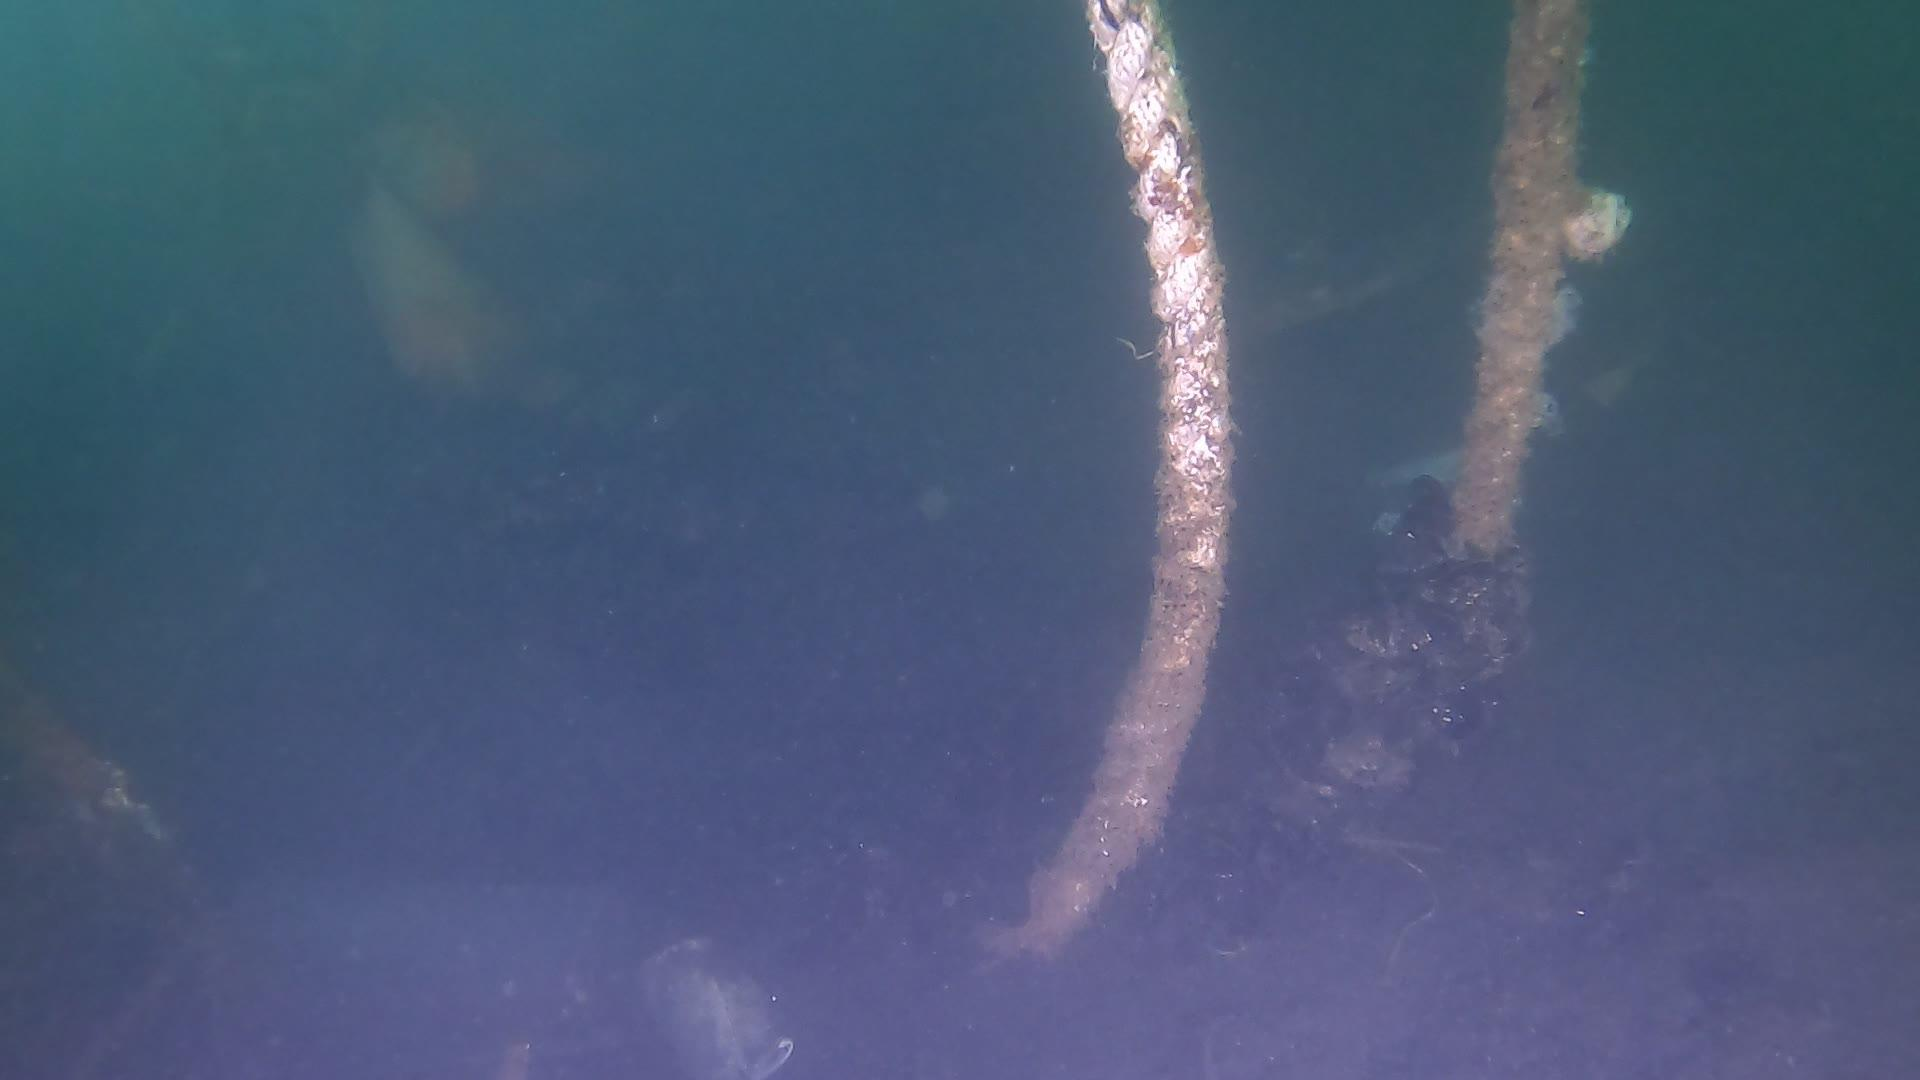rope: (945, 0, 1258, 1023), (1441, 7, 1600, 547)
